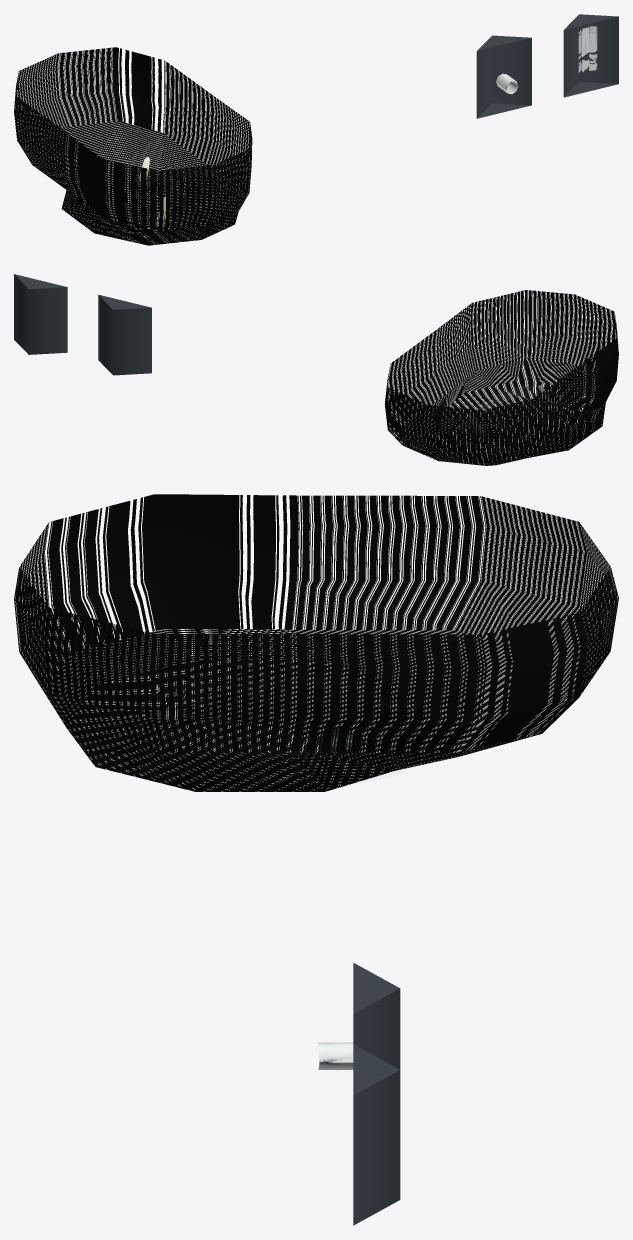
The model's file is Map0.dae.
The picture shows the model from 3 angles, top to bottom: view 1: azimuth 30°, elevation 25°; view 2: azimuth 150°, elevation 25°; view 3: azimuth 270°, elevation 25°; orthographic projection. The views are drawn at different scales.
Parts seen in each view (by area): view 1: World-firstForest-gnd, pfFloor-gnd_000, pfFloor-gnd_001, wfall-pfOuterSmoke_001; view 2: World-firstForest-gnd, pfFloor-gnd_001, pfFloor-gnd_000; view 3: World-firstForest-gnd, pfFloor-gnd_001, pfFloor-gnd_000, wfall-pfOuterSmoke_000.
Part boxes in pixels (box(x1,y1,x2,y2)): World-firstForest-gnd: box(14, 47, 252, 245); pfFloor-gnd_000: box(476, 35, 531, 118); pfFloor-gnd_001: box(563, 14, 618, 97); wfall-pfOuterSmoke_001: box(578, 26, 597, 72); World-firstForest-gnd: box(384, 290, 618, 465); pfFloor-gnd_001: box(14, 274, 67, 354); pfFloor-gnd_000: box(98, 294, 151, 375); World-firstForest-gnd: box(14, 494, 618, 791); pfFloor-gnd_001: box(353, 1044, 400, 1225); pfFloor-gnd_000: box(353, 962, 400, 1069); wfall-pfOuterSmoke_000: box(318, 1042, 353, 1069).
Bounding box in the file's own units: 184 × 87.81 × 31.63.
